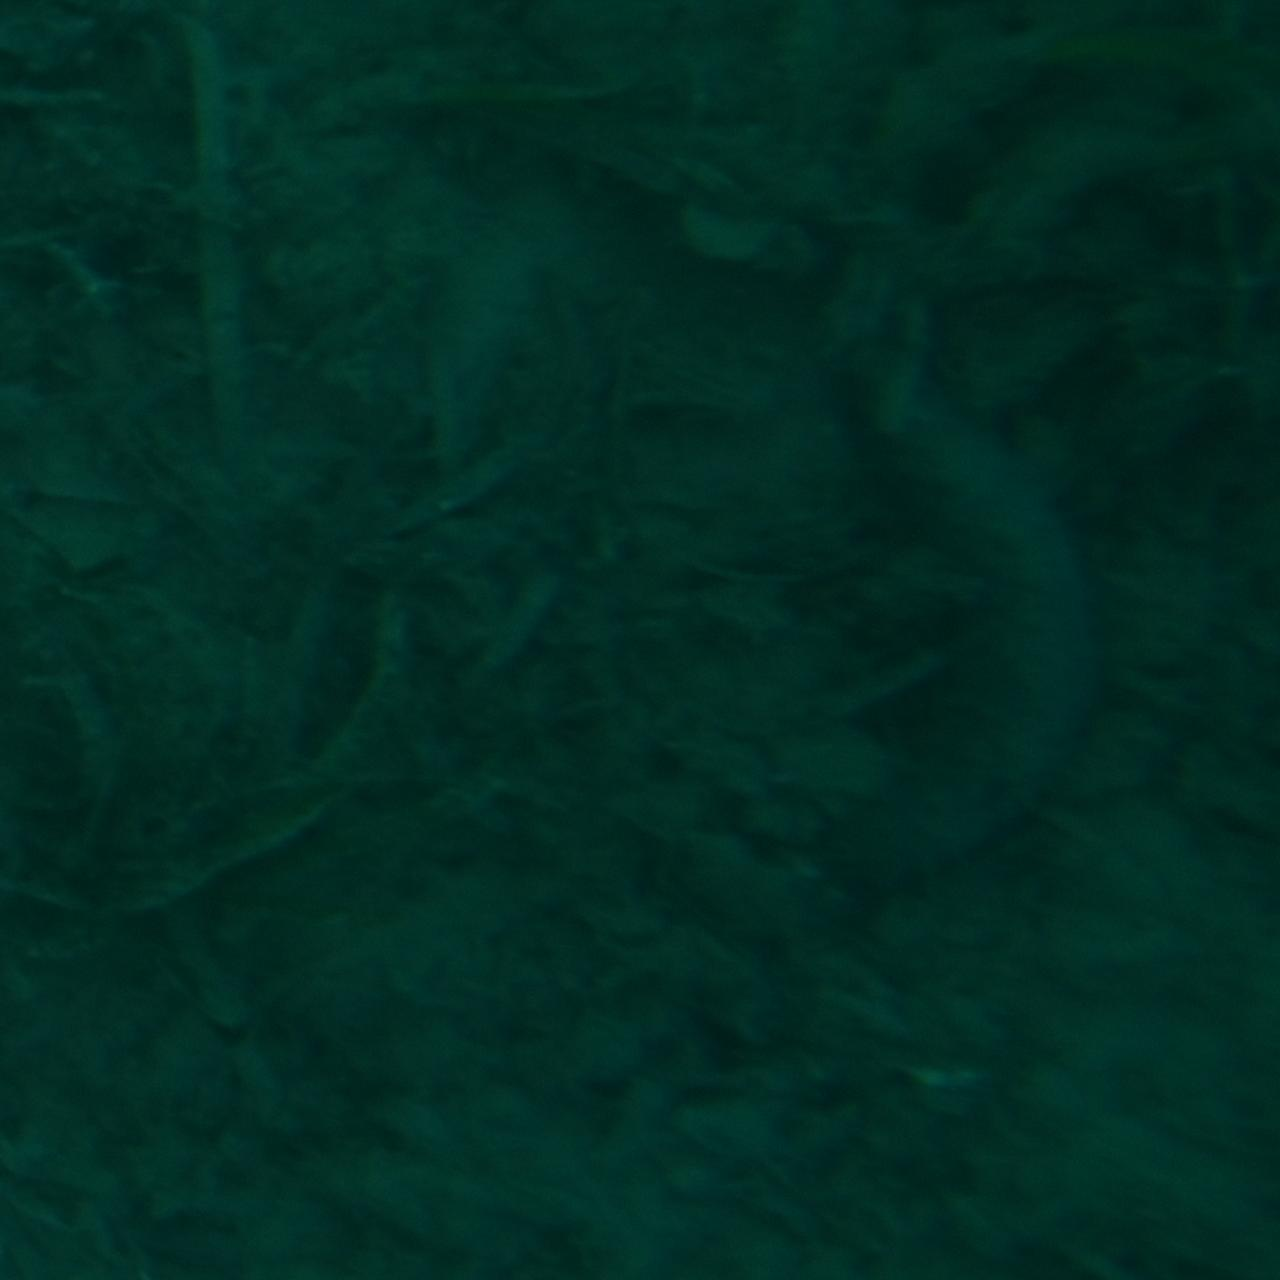Holothuria tubulosa: (840, 350, 1104, 930)
